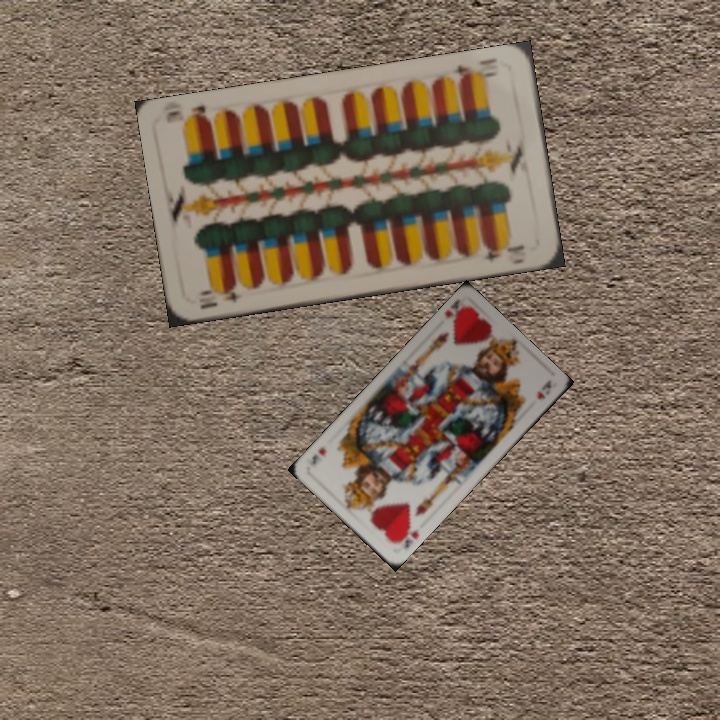E10: (449, 54, 502, 86), (196, 281, 245, 305)
HK: (440, 295, 463, 328), (398, 522, 421, 551)
